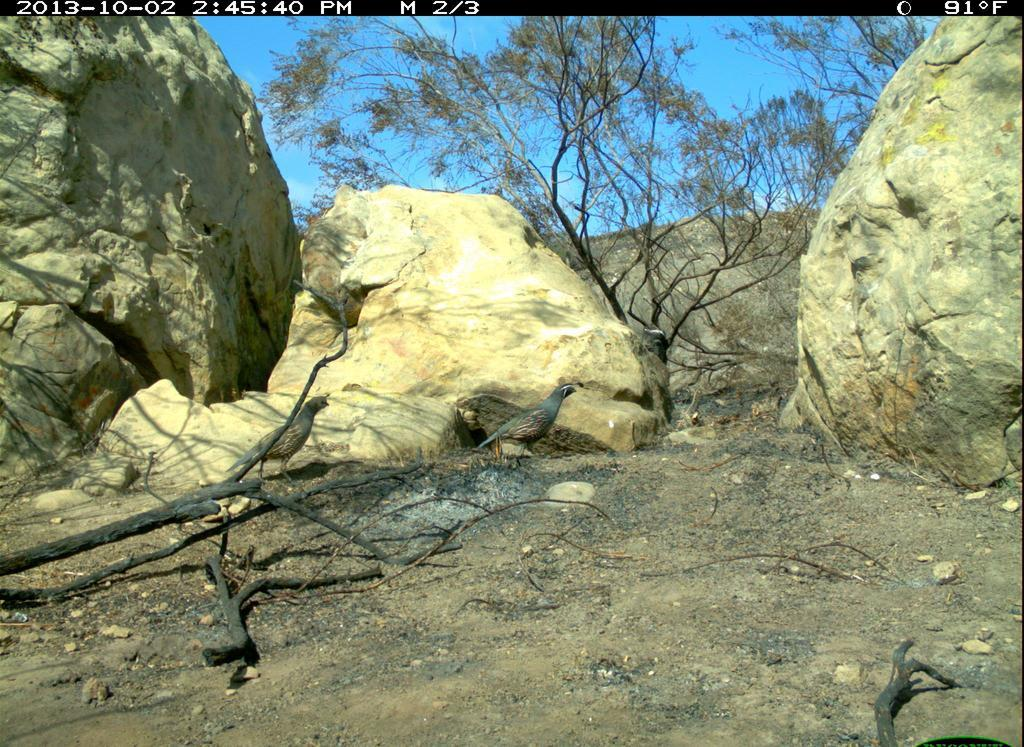bird: (464, 376, 593, 474), (233, 391, 349, 498)
